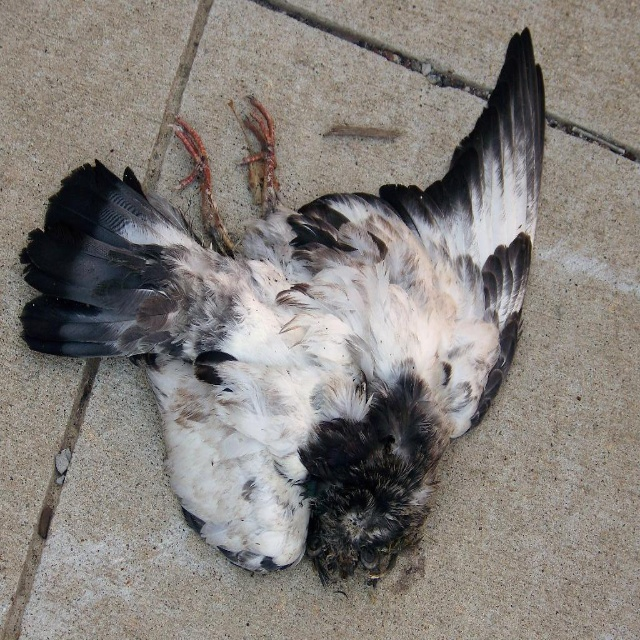Chicken: (0, 17, 542, 606)
